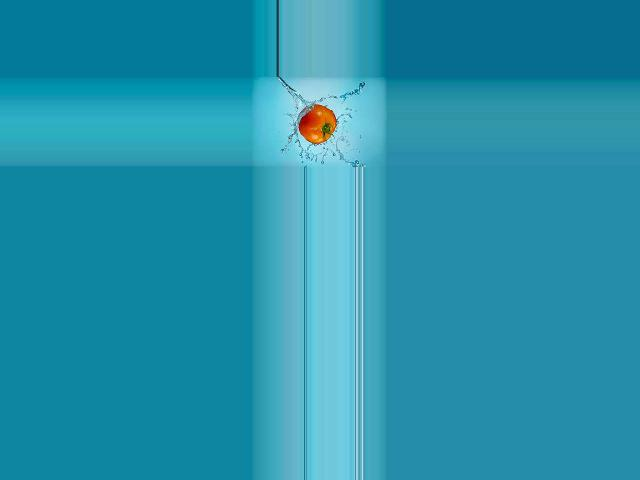tomato: (298, 104, 336, 144)
